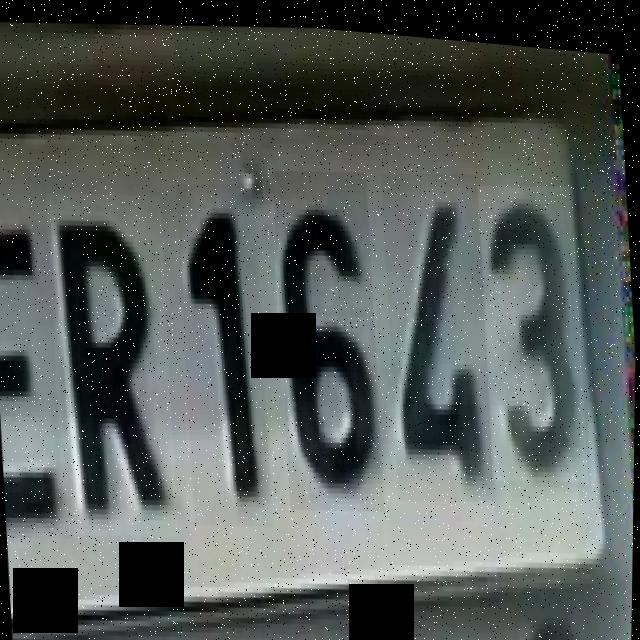1: (172, 174, 277, 526)
3: (474, 170, 592, 478)
4: (378, 158, 500, 500)
6: (268, 158, 389, 510)
R: (42, 184, 184, 541)
